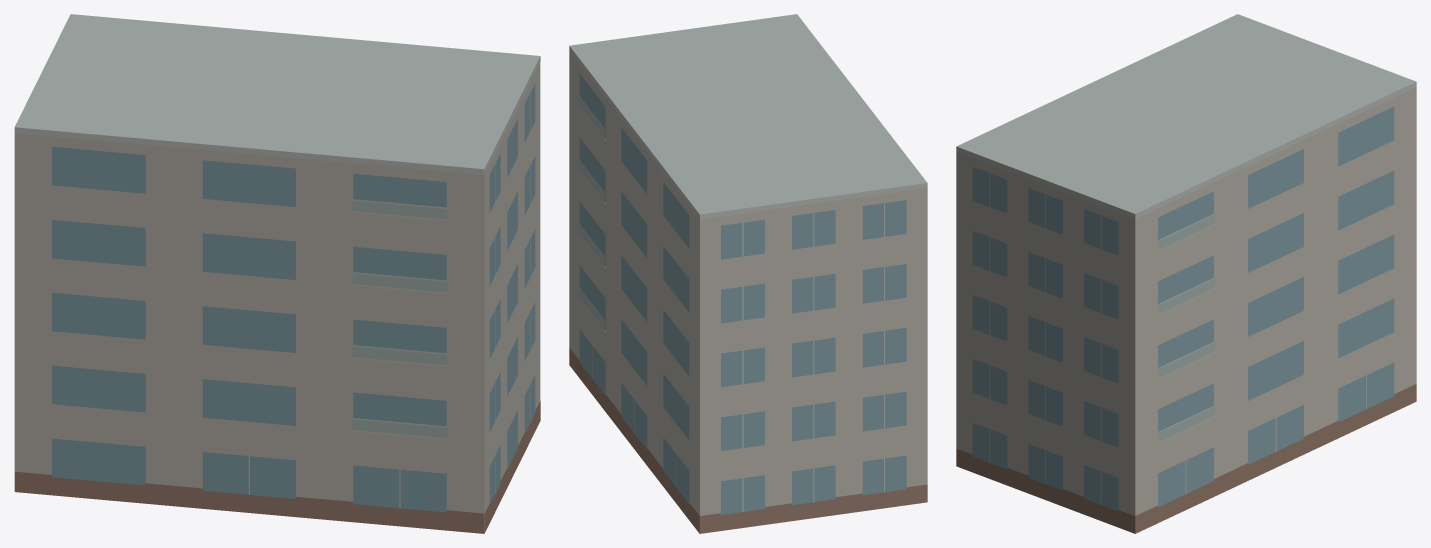
Rendered from survey-upis-32526096.glb.
3 views of the same model, side by side, from view 1: azimuth 30°, elevation 25°; view 2: azimuth 150°, elevation 25°; view 3: azimuth 270°, elevation 25° (orthographic). The views are drawn at different scales.
Parts seen in each view (by area): view 1: survey-upis-32526096.tmp; view 2: survey-upis-32526096.tmp; view 3: survey-upis-32526096.tmp.
Boxes of the visible parts, x1=… form: survey-upis-32526096.tmp: x1=14, y1=14, x2=540, y2=533; survey-upis-32526096.tmp: x1=569, y1=14, x2=927, y2=533; survey-upis-32526096.tmp: x1=956, y1=14, x2=1416, y2=533.
Size of the model in its own units: 20.47 by 15.25 by 19.9.
